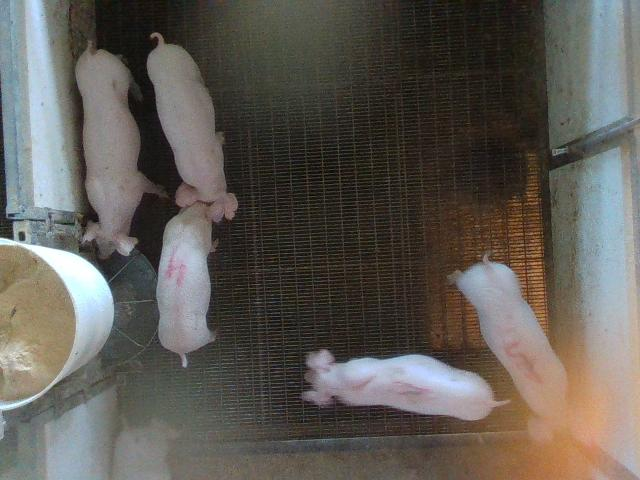pig-1: (301, 349, 509, 419)
pig-3: (449, 255, 591, 442)
pig-4: (156, 182, 224, 367)
